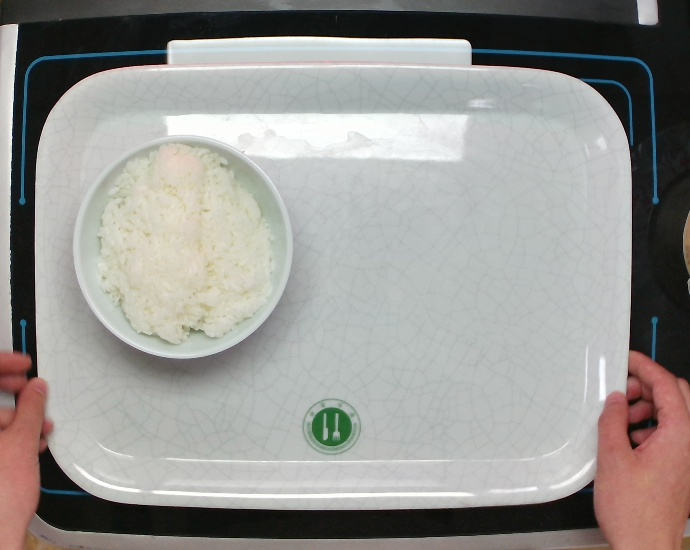JYsf-Fan_Wan: (71, 133, 295, 361)
